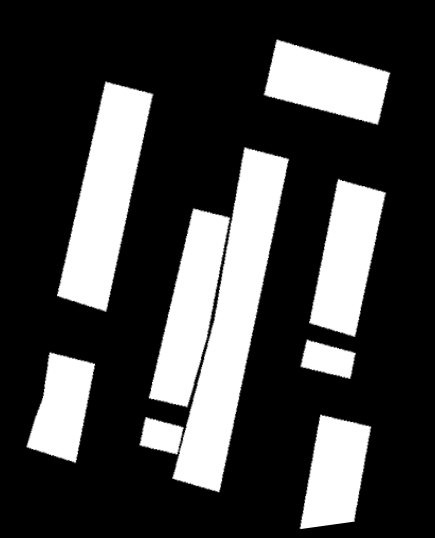parkingspot: (139, 147, 289, 492), (57, 82, 153, 312), (149, 209, 230, 407), (309, 179, 386, 337), (264, 40, 390, 125), (300, 415, 371, 529), (27, 352, 95, 463), (301, 340, 356, 379)
